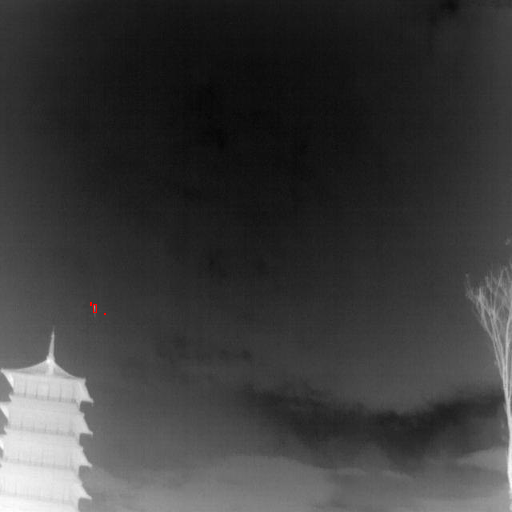Target: (93, 304, 96, 312), (90, 302, 91, 305), (104, 313, 105, 314)
